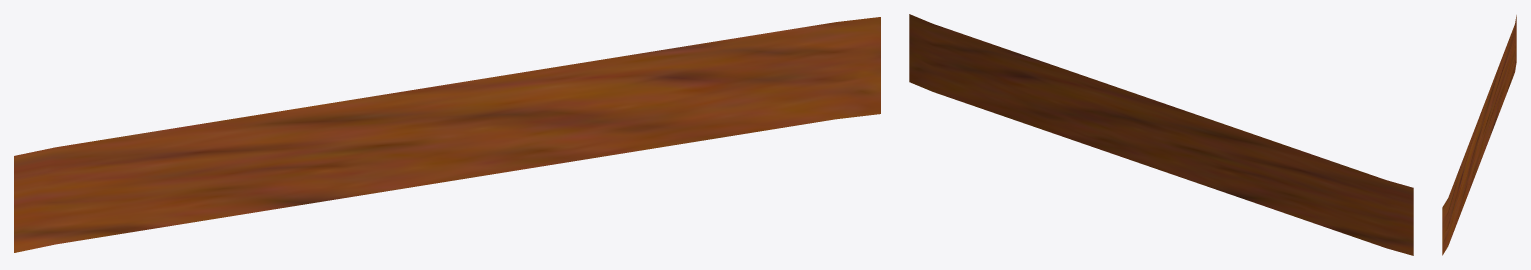
Rendered from cube.039_lev3.glb.
3 views of the same model, side by side, from view 1: azimuth 30°, elevation 25°; view 2: azimuth 150°, elevation 25°; view 3: azimuth 270°, elevation 25° (orthographic). The views are drawn at different scales.
Visible parts, largest first — view 1: cube.039_lev3; view 2: cube.039_lev3; view 3: cube.039_lev3.
Boxes of the visible parts, x1=… form: cube.039_lev3: x1=14, y1=17, x2=880, y2=252; cube.039_lev3: x1=909, y1=14, x2=1413, y2=255; cube.039_lev3: x1=1442, y1=15, x2=1516, y2=255.
Bounding box in the file's own units: 1.3 × 0.1522 × 0.2107.
1 material, 1 textured.
